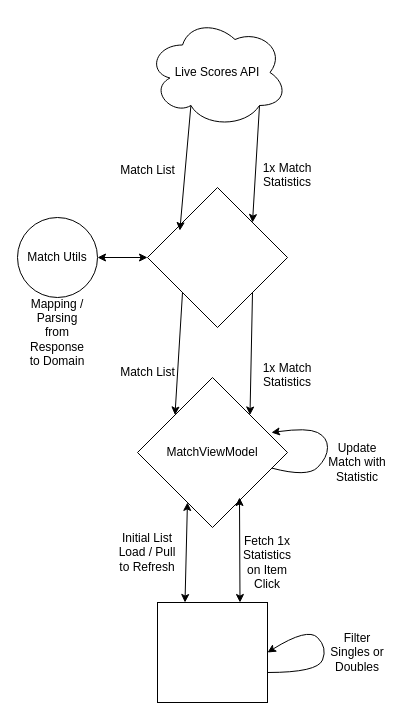
Image size: 405x720. Some labels were removed from this diagram. Each missing label, with the centre of its shape:
"MatchesRepository" goes at (x=217, y=257).
"MatchesScreen" goes at (x=212, y=652).
